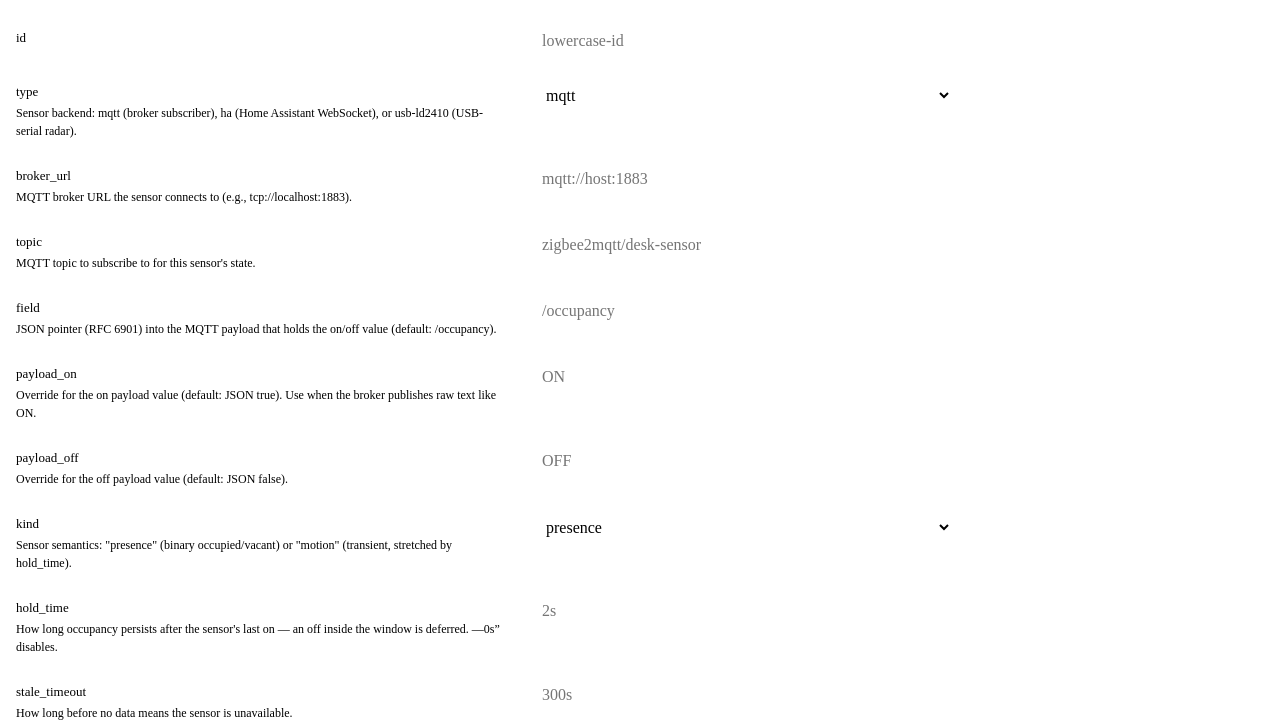
Test case: CreateEntityForm — guided help / placeholders for every creatable field (2.i) › sensor with ha type renders the ha-only help texts
This screenshot has width=1280, height=720.
Select "ha" in the dropdown labelled "type" at {"x": 742, "y": 96}, box [532,80,952,111]
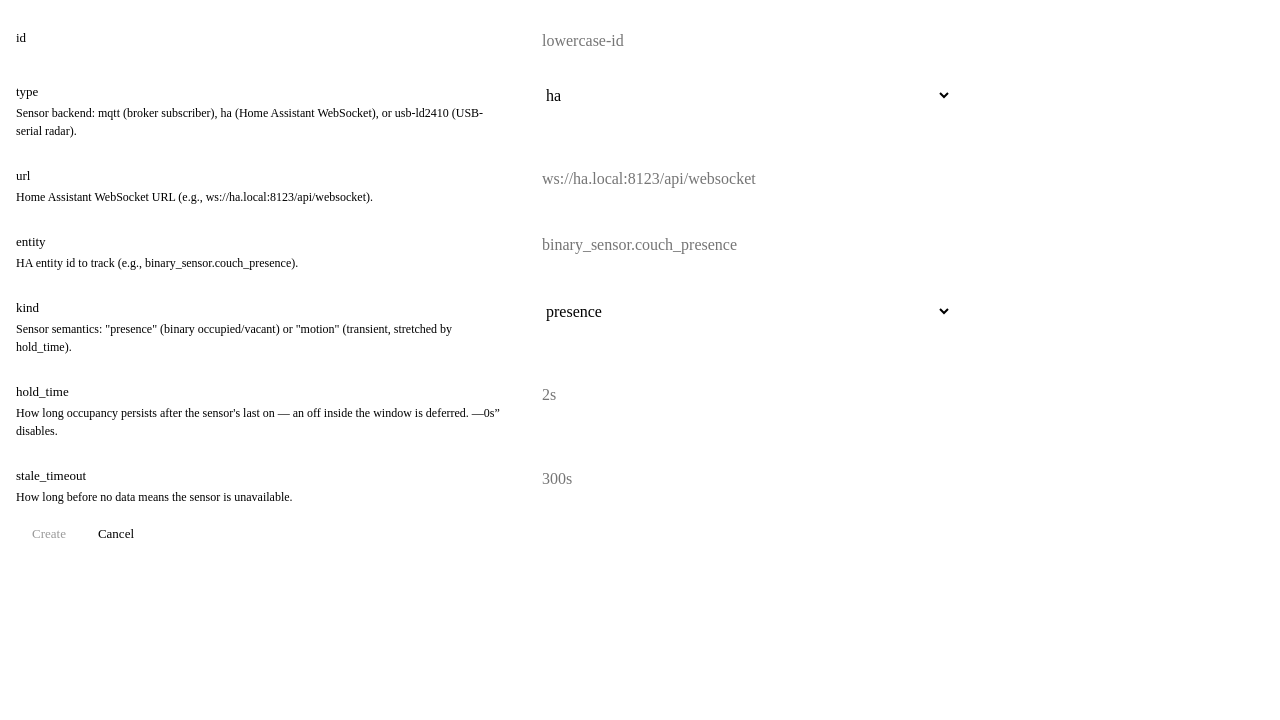
expect the text "Home Assistant WebSocket URL (e.g., ws://ha.local:8123/api/websocket)." is shown: met, box [16,190,373,204]
expect the text "HA entity id to track (e.g., binary_sensor.couch_presence)." is shown: met, box [16,256,298,270]
